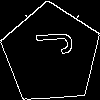J: (26, 29, 73, 57)
